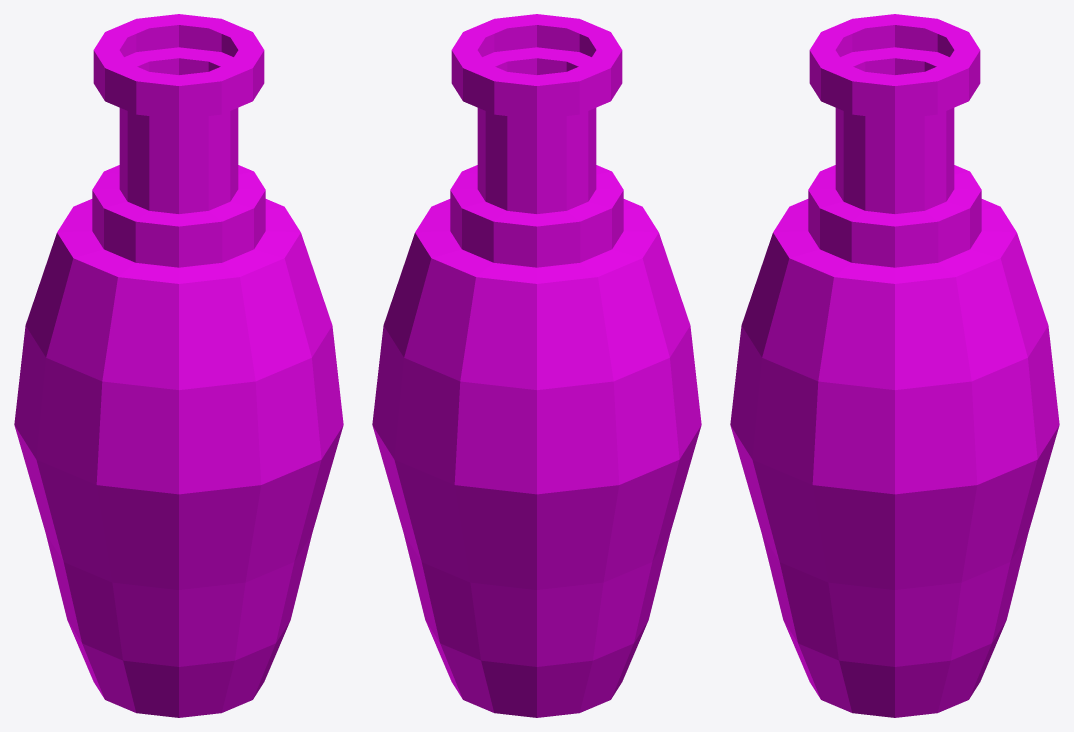
The model's file is BOTELLA 2.fbx.
The picture shows the model from 3 angles, left to right: view 1: azimuth 30°, elevation 25°; view 2: azimuth 150°, elevation 25°; view 3: azimuth 270°, elevation 25°; orthographic projection.
Visible parts, largest first — view 1: BOTELLA 2; view 2: BOTELLA 2; view 3: BOTELLA 2.
Boxes of the visible parts, x1,y1,x2,y2 form: BOTELLA 2: (14, 14, 343, 717); BOTELLA 2: (372, 14, 701, 717); BOTELLA 2: (730, 14, 1059, 717).
Size of the model in its own units: 14.99 by 31.74 by 14.99.
